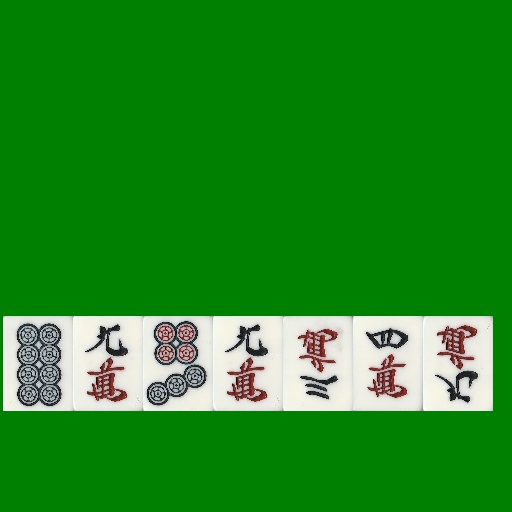3m: (283, 316, 353, 411)
4m: (353, 316, 423, 411)
7p: (143, 316, 213, 411)
8p: (3, 316, 73, 411)
9m: (73, 316, 143, 411), (213, 316, 283, 411), (423, 316, 493, 411)
